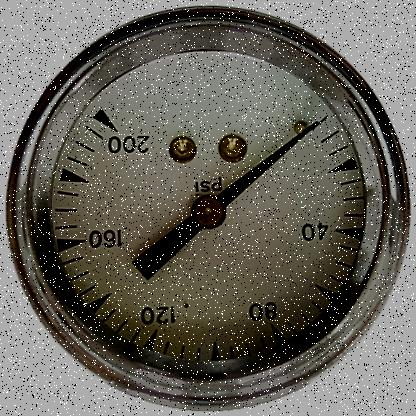needle: (214, 120, 319, 208)
